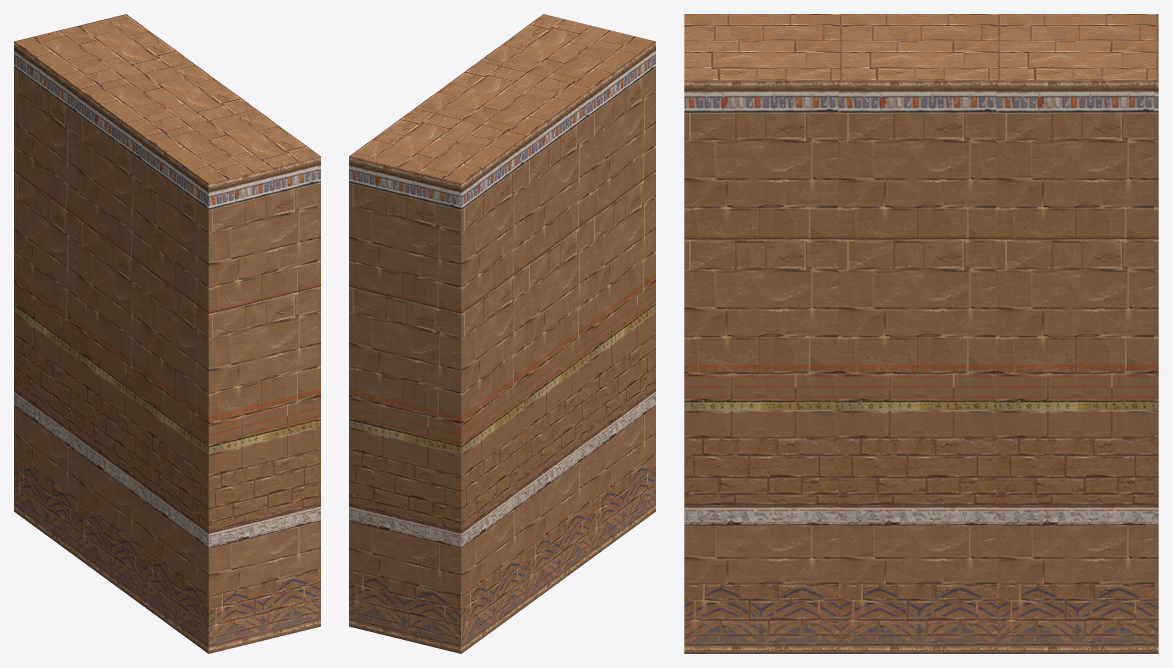
File: tallwall_3units.fbx
3 views of the same model, side by side, from view 1: azimuth 30°, elevation 25°; view 2: azimuth 150°, elevation 25°; view 3: azimuth 270°, elevation 25° (orthographic). The views are drawn at different scales.
Visible parts, largest first — view 1: pCube1, pCube2, pCube3; view 2: pCube3, pCube2, pCube1; view 3: pCube1, pCube2, pCube3.
Part boxes in pixels (x1,y1,x2,y2): pCube1: (143, 109, 320, 653); pCube2: (79, 61, 255, 605); pCube3: (14, 14, 190, 558); pCube3: (349, 109, 526, 653); pCube2: (414, 61, 590, 605); pCube1: (479, 14, 655, 558); pCube1: (684, 14, 842, 653); pCube2: (842, 14, 1000, 653); pCube3: (1000, 14, 1158, 653).
Size of the model in its own units: 1 by 4 by 3.
Materials: 1 (1 with a texture image).
